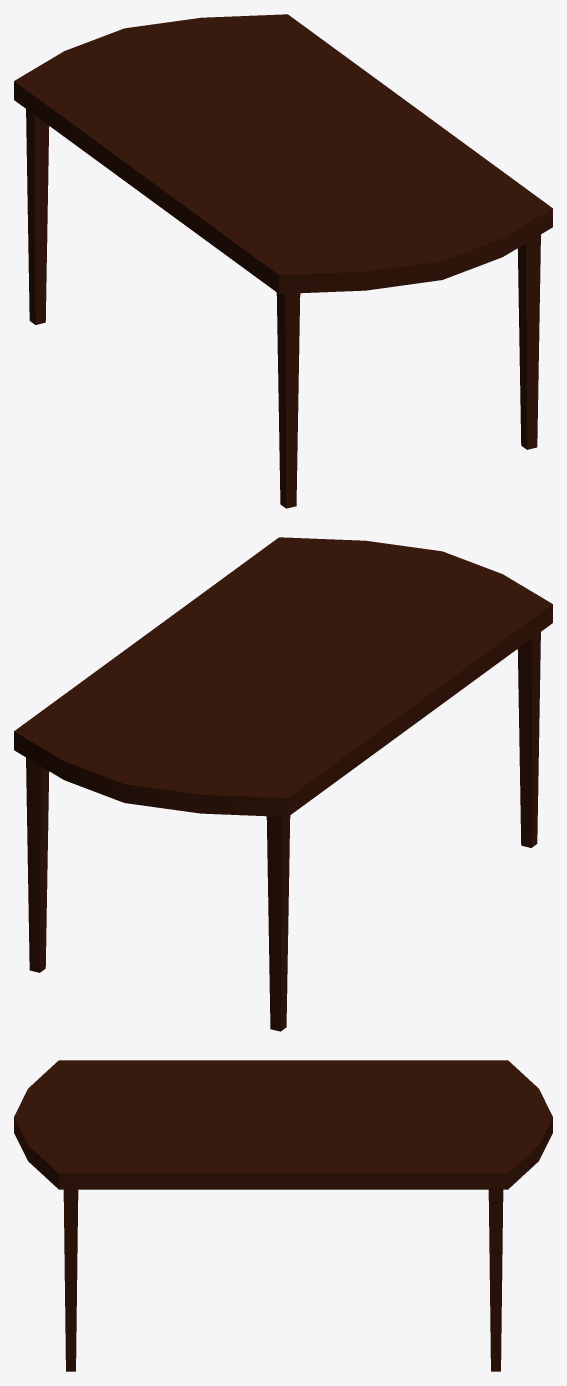
File: DinnerTable.fbx
3 views of the same model, one above another, from view 1: azimuth 30°, elevation 25°; view 2: azimuth 150°, elevation 25°; view 3: azimuth 270°, elevation 25° (orthographic). The views are drawn at different scales.
Parts seen in each view (by area): view 1: DinnerTable; view 2: DinnerTable; view 3: DinnerTable.
Boxes of the visible parts, left/top/right/bottom form: DinnerTable: left=14, top=14, right=552, bottom=508; DinnerTable: left=14, top=537, right=552, bottom=1031; DinnerTable: left=14, top=1060, right=552, bottom=1371.
Bounding box in the file's own units: 150 × 125 × 302.
